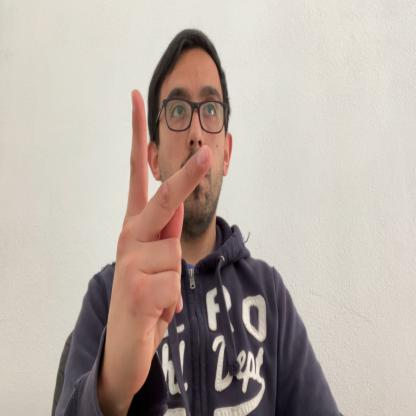P: (109, 89, 212, 390)
